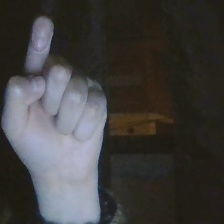X: (1, 8, 121, 187)
